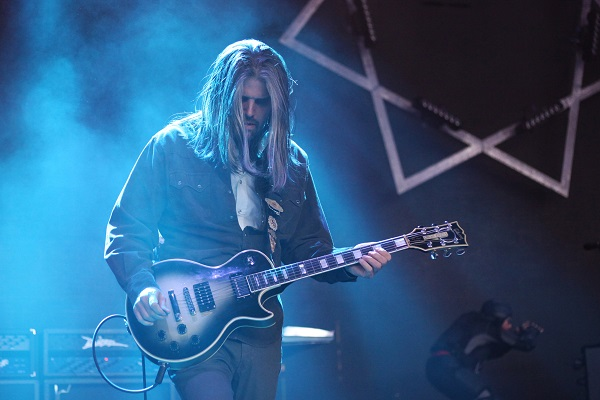acousticguitar: (121, 214, 469, 372)
